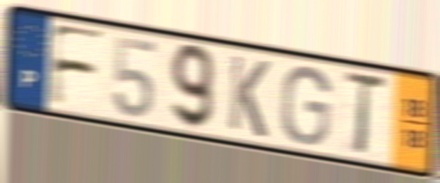5: (111, 33, 157, 120)
9: (168, 42, 217, 133)
F: (46, 20, 109, 110)
G: (278, 63, 333, 148)
K: (226, 51, 272, 141)
T: (340, 70, 389, 159)
